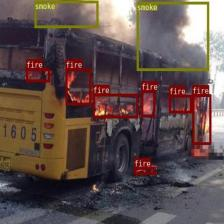fire: (92, 93, 138, 118), (65, 68, 91, 105), (192, 94, 211, 144), (168, 95, 192, 113), (141, 90, 155, 116), (26, 68, 50, 82), (134, 167, 155, 174)
smoke: (136, 1, 209, 70), (34, 0, 98, 28)
